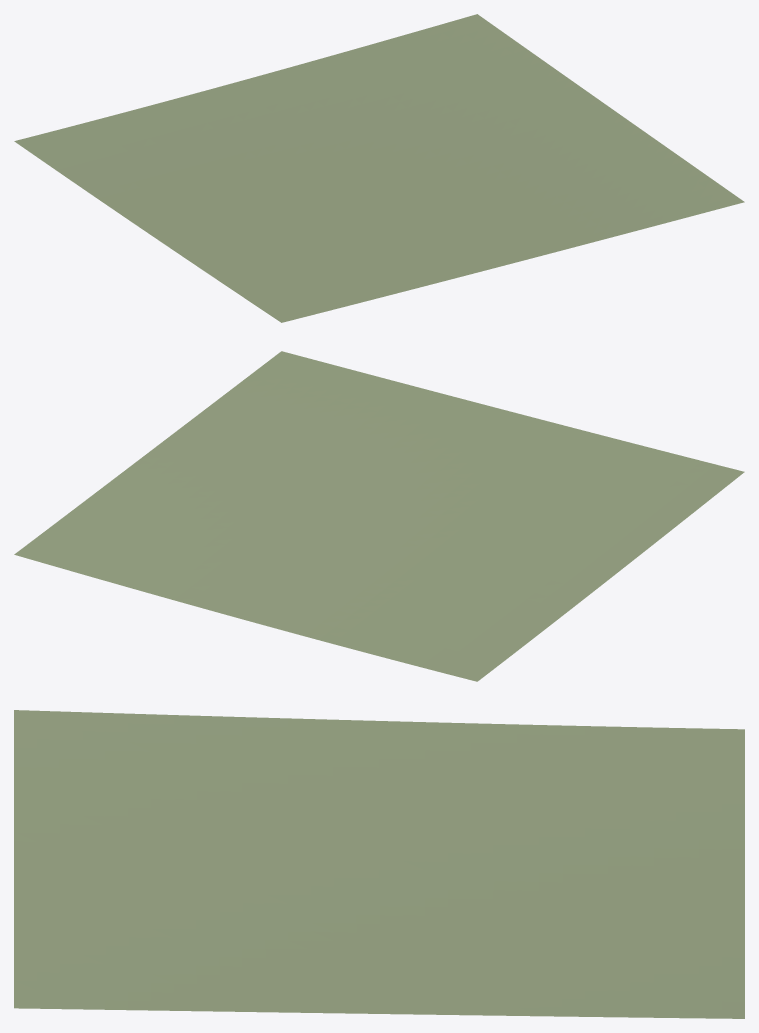
File: gardens-7-6.glb
The picture shows the model from 3 angles, top to bottom: view 1: azimuth 30°, elevation 25°; view 2: azimuth 150°, elevation 25°; view 3: azimuth 270°, elevation 25°; orthographic projection. The views are drawn at different scales.
Visible parts, largest first — view 1: gardens-7-6; view 2: gardens-7-6; view 3: gardens-7-6.
Boxes of the visible parts, x1,y1,x2,y2 form: gardens-7-6: (14, 14, 744, 322); gardens-7-6: (14, 351, 744, 681); gardens-7-6: (14, 710, 744, 1018).
Bounding box in the file's own units: 256 × 11.52 × 256.
